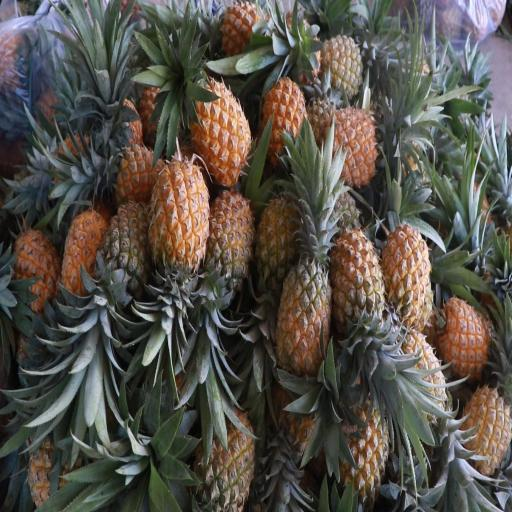------------------------------: (275, 242, 338, 383), (193, 383, 256, 512), (99, 193, 157, 297), (251, 174, 300, 289), (313, 21, 365, 100)
Pineapple - v8 v1: (147, 148, 214, 283), (186, 66, 250, 190), (326, 214, 385, 333), (376, 208, 432, 330), (333, 381, 393, 494), (202, 176, 255, 295), (316, 96, 385, 186), (98, 139, 174, 213), (434, 282, 493, 376), (259, 70, 312, 174), (61, 204, 110, 312), (5, 217, 59, 312), (459, 375, 512, 470)
